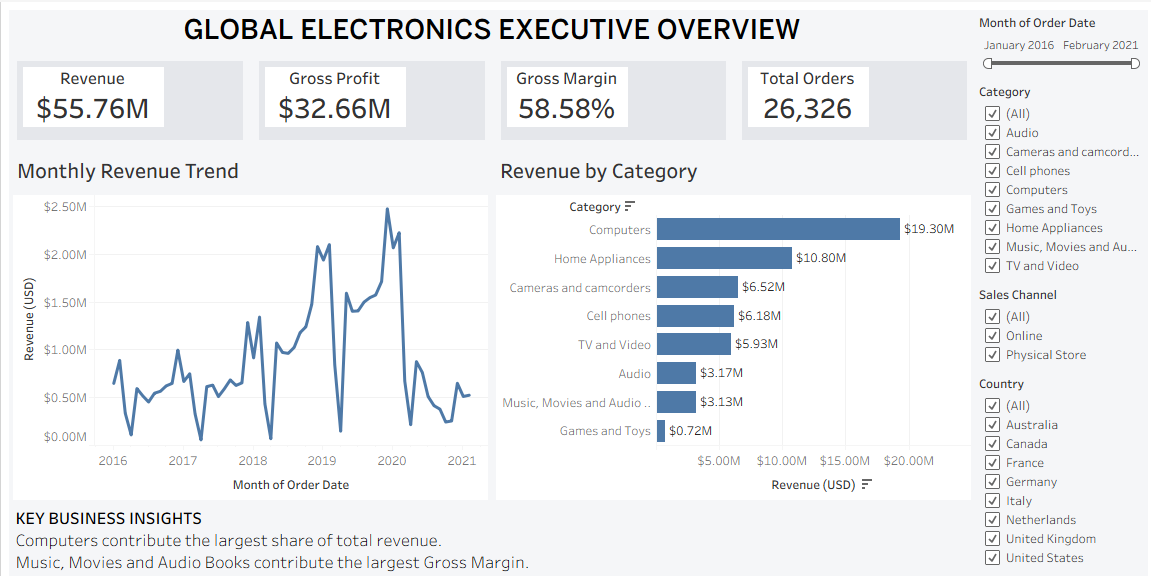

This screenshot's page, from the dashboard's own definition file:
{"tool":"tableau","page":{"name":"Executive Overview","canvas":[1000,1000],"units":"permille","ordinal":1},"visuals":[{"type":"text","box":[6.9,13.7,836.4,73.6]},{"type":"filter","title":"Monthly Revenue Trend","param":"[federated.0h9zmot1fqvaf0160yl9j1oxcu2t].[tmn:Order Date:qk]","box":[843.3,13.7,149.8,118.2]},{"type":"worksheet","title":"KPI — Revenue","mark":"Automatic","box":[6.9,87.3,209.5,162.7]},{"type":"worksheet","title":"KPI - Gross Profit","mark":"Automatic","box":[216.5,87.3,209.5,162.7]},{"type":"worksheet","title":"KPI - Gross Margin","mark":"Automatic","box":[426,87.3,208.7,162.7]},{"type":"worksheet","title":"KPI - Orders","mark":"Automatic","box":[634.6,87.3,208.7,162.7]},{"type":"filter","title":"Revenue by Category","param":"[federated.0h9zmot1fqvaf0160yl9j1oxcu2t].[none:Category:nk]","box":[843.3,131.8,149.8,347.6]},{"type":"worksheet","title":"Monthly Revenue Trend","mark":"Automatic","rows":["Calculation_0073728170811392"],"cols":["Order Date"],"box":[6.9,250,418.2,609.6]},{"type":"worksheet","title":"Revenue by Category","mark":"Bar","rows":["Category"],"cols":["Calculation_0073728170811392"],"box":[425.1,250,418.2,609.6]},{"type":"filter","title":"Revenue by Category","param":"[federated.0h9zmot1fqvaf0160yl9j1oxcu2t].[none:Calculation_0809305066196997:nk]","box":[843.3,479.4,149.8,152.4]},{"type":"filter","title":"Revenue by Category","param":"[federated.0h9zmot1fqvaf0160yl9j1oxcu2t].[none:Country:nk]","box":[843.3,631.9,149.8,347.6]},{"type":"text","box":[6.9,859.6,418.2,126.7]},{"type":"dashboard-object","box":[425.1,859.6,209.1,126.7]},{"type":"dashboard-object","box":[634.2,859.6,209.1,126.7]}]}

Visuals, with their boxes on the dashboard's canvas, which has no fixed pixel size, in thousandths of its width and height (x1, y1, x2, y2). These are canvas units, not pixel positions in the 1151x576 screenshot, which may show the page scaled, cropped or inside an application window:
text: bbox=(7, 14, 843, 87)
"Monthly Revenue Trend" filter: bbox=(843, 14, 993, 132)
"KPI — Revenue" worksheet: bbox=(7, 87, 216, 250)
"KPI - Gross Profit" worksheet: bbox=(216, 87, 426, 250)
"KPI - Gross Margin" worksheet: bbox=(426, 87, 635, 250)
"KPI - Orders" worksheet: bbox=(635, 87, 843, 250)
"Revenue by Category" filter: bbox=(843, 132, 993, 479)
"Monthly Revenue Trend" worksheet: bbox=(7, 250, 425, 860)
"Revenue by Category" worksheet (Bar marks): bbox=(425, 250, 843, 860)
"Revenue by Category" filter: bbox=(843, 479, 993, 632)
"Revenue by Category" filter: bbox=(843, 632, 993, 980)
text: bbox=(7, 860, 425, 986)
dashboard-object: bbox=(425, 860, 634, 986)
dashboard-object: bbox=(634, 860, 843, 986)
